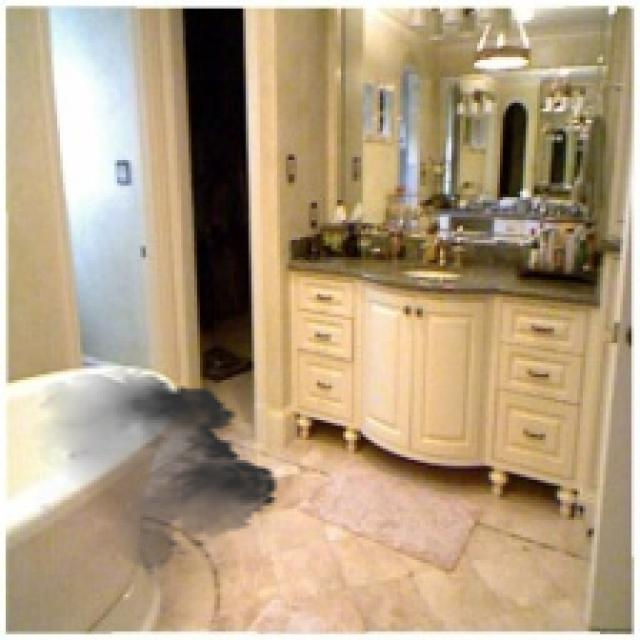smoke: (25, 369, 288, 577)
